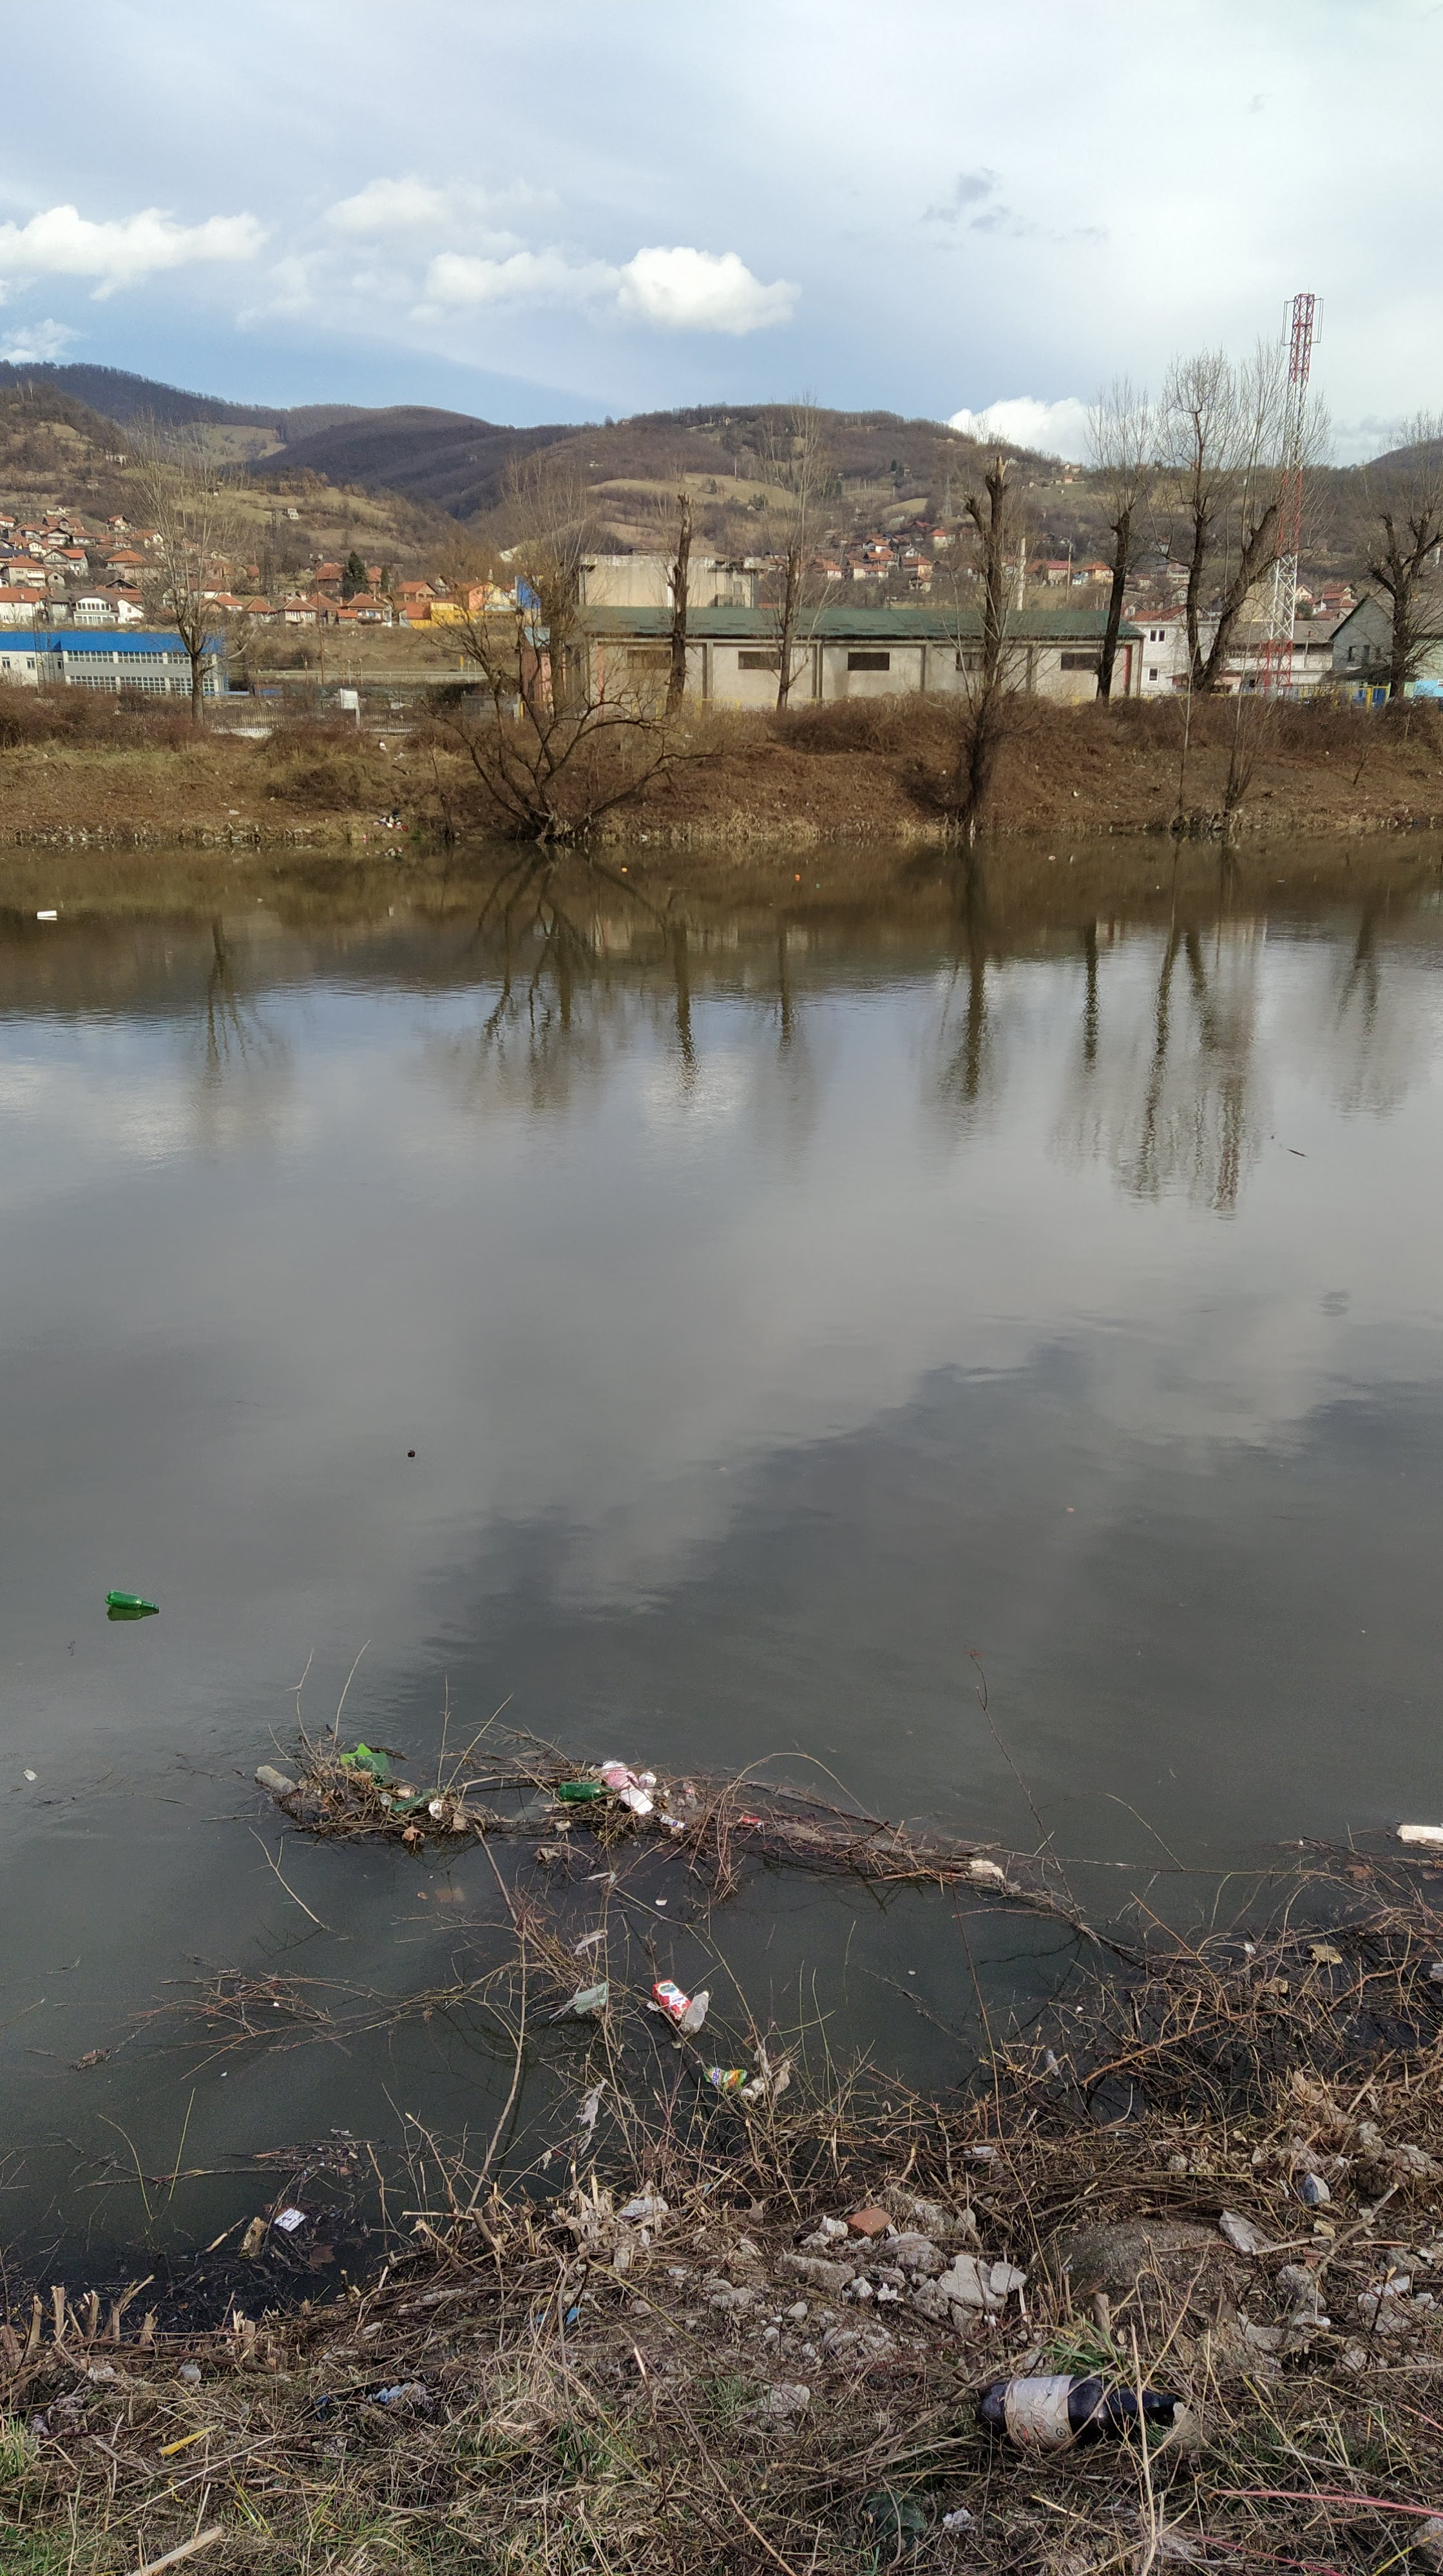Plastic Bottle: (680, 1990, 710, 2035), (391, 1787, 441, 1812), (558, 1782, 618, 1801), (255, 1766, 296, 1792), (106, 1591, 159, 1608), (703, 2066, 745, 2088), (352, 1757, 384, 1783), (683, 1782, 696, 1806), (1431, 1964, 1443, 1982), (379, 1794, 391, 1805), (816, 883, 820, 888), (1050, 856, 1053, 860)
